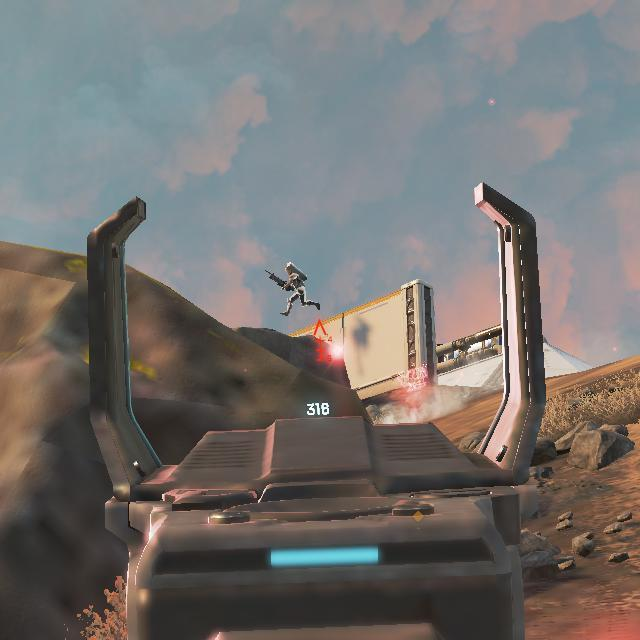avatar: (279, 261, 310, 318)
